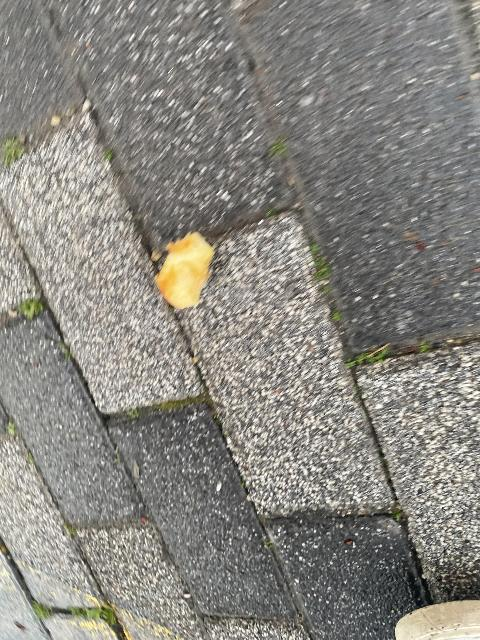Organik: (141, 227, 233, 321)
